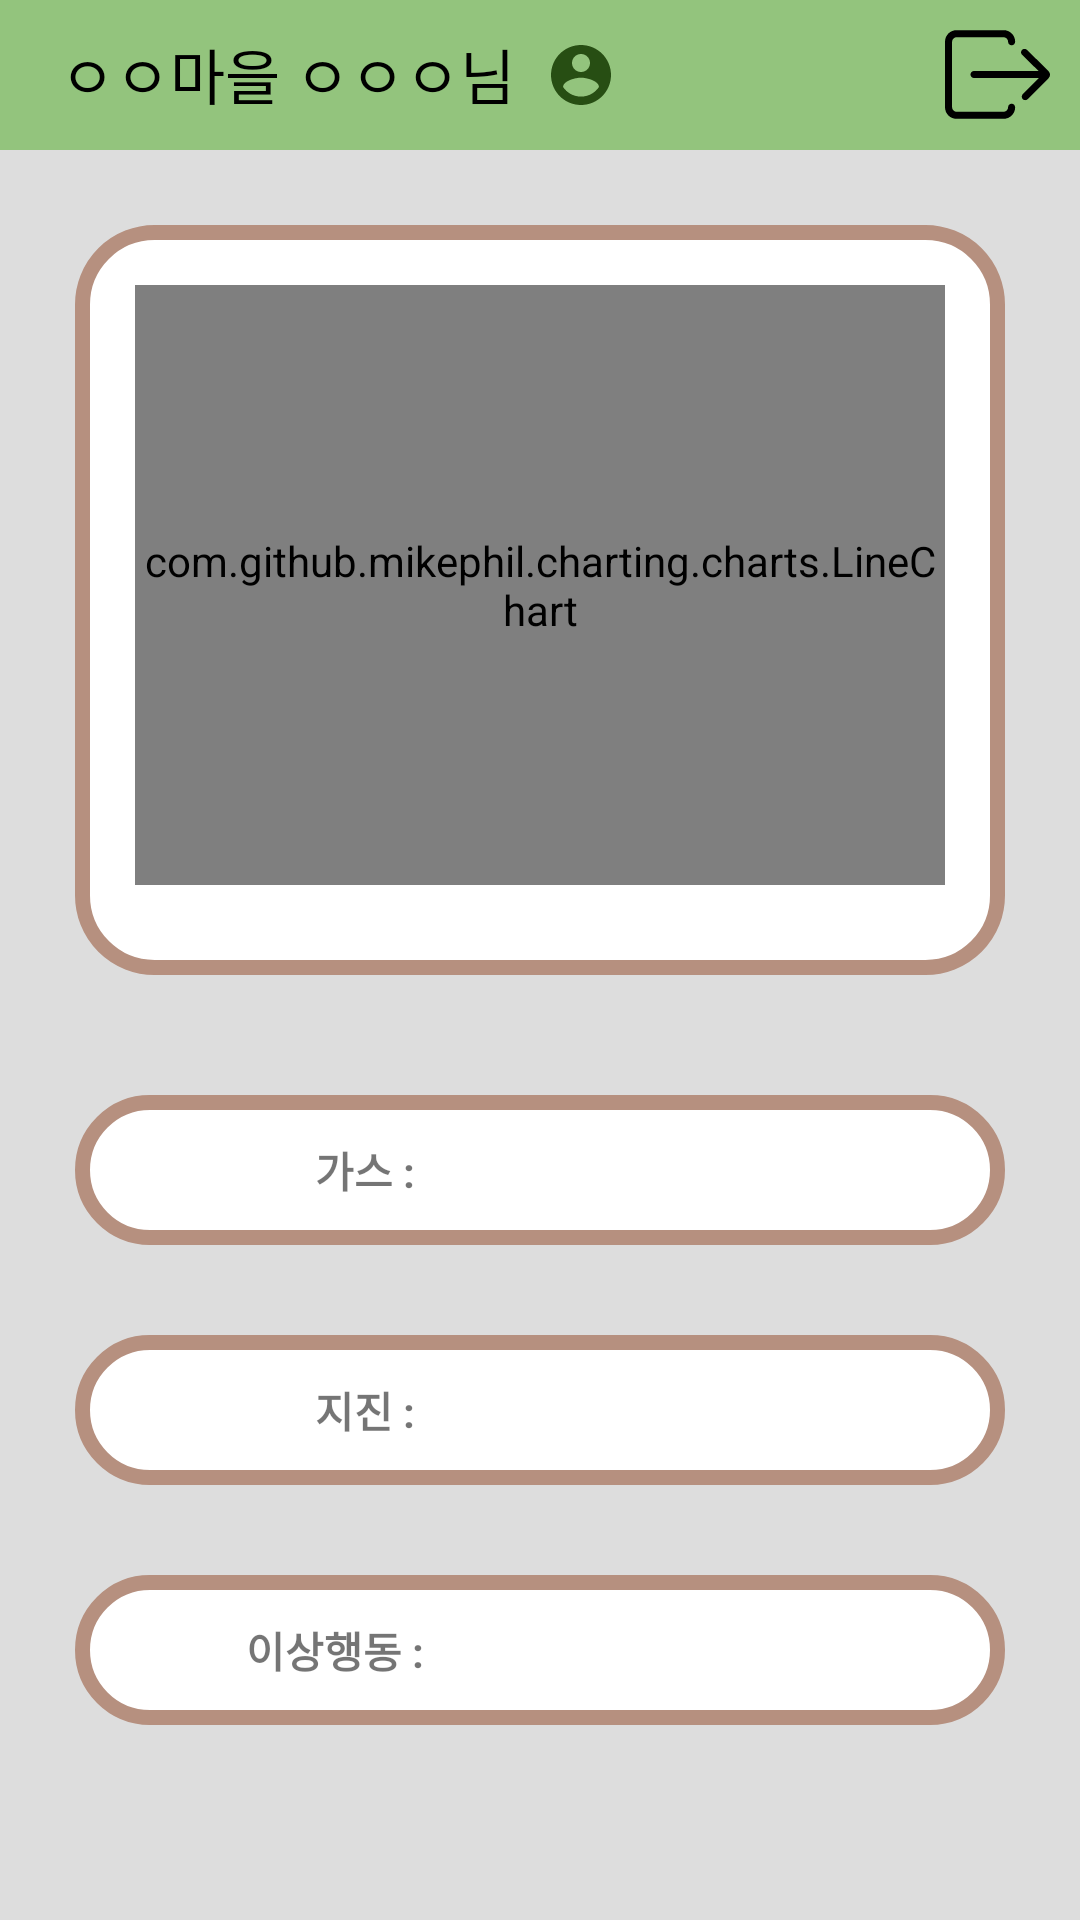

Icons on this 1080px×1920px Android screen, each with the point to tap as (x=x, y=y):
person: (x=581, y=75)
